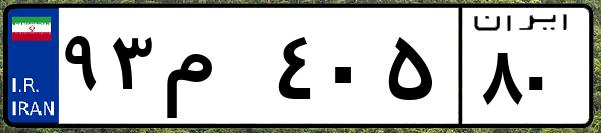0: (330, 28, 385, 110), (525, 38, 570, 115)
3: (110, 28, 158, 98)
4: (270, 28, 330, 110)
5: (385, 28, 445, 110)
8: (475, 38, 525, 113)
9: (57, 26, 110, 100)
م: (158, 20, 270, 120)
